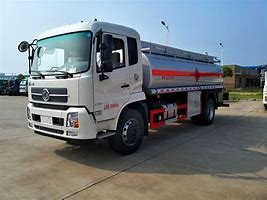oil truck: (15, 15, 231, 156)
